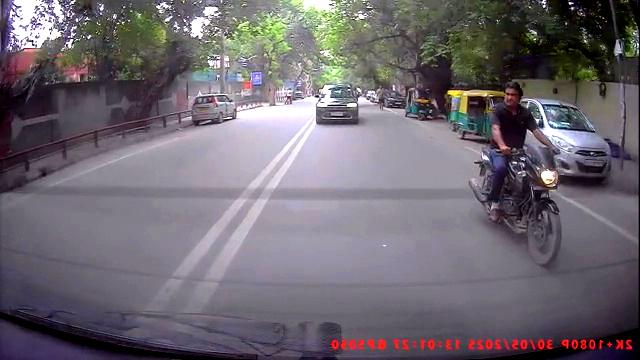motorcycle_without_helmet: (470, 76, 565, 265)
